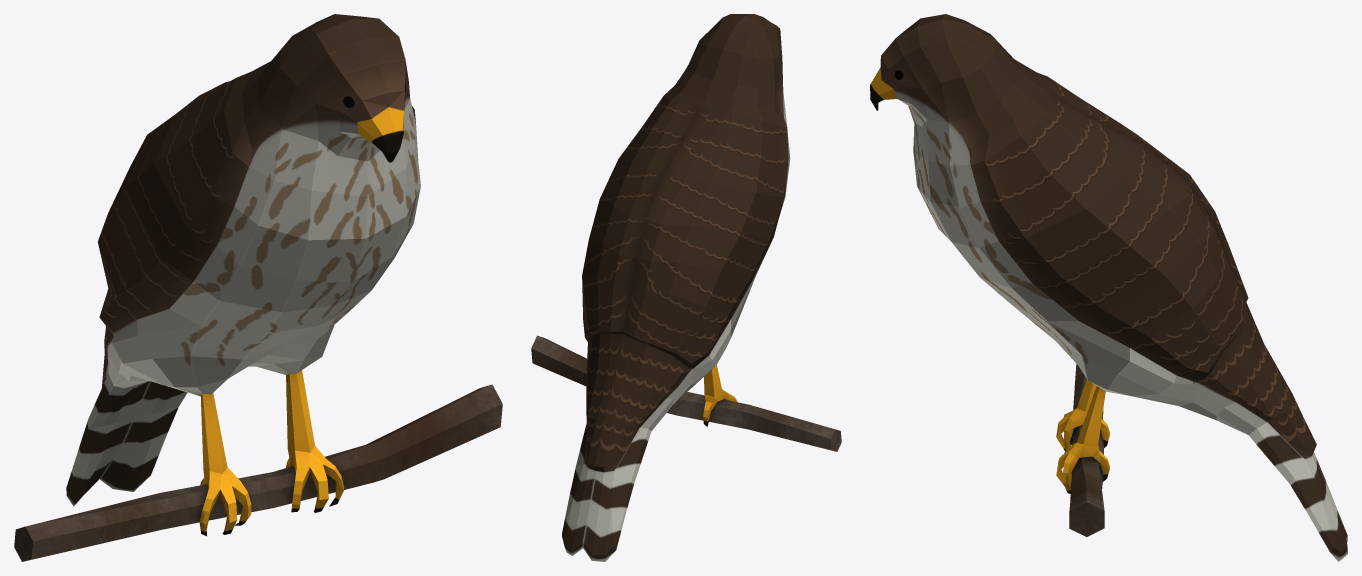
Rendered from 1c3b2cbf-eaa8-48ae-ac58-feba79965ae5.glb.
The picture shows the model from 3 angles, left to right: view 1: azimuth 30°, elevation 25°; view 2: azimuth 150°, elevation 25°; view 3: azimuth 270°, elevation 25°; orthographic projection. The views are drawn at different scales.
Parts seen in each view (by area): view 1: SharpShinnedHawk_Mesh; view 2: SharpShinnedHawk_Mesh; view 3: SharpShinnedHawk_Mesh.
Boxes of the visible parts, bbox=[...] form: SharpShinnedHawk_Mesh: bbox=[14, 14, 502, 561]; SharpShinnedHawk_Mesh: bbox=[531, 14, 841, 561]; SharpShinnedHawk_Mesh: bbox=[870, 14, 1347, 561].
Bounding box in the file's own units: 2.8 × 3.77 × 3.08.
Materials: 1 (1 with a texture image).
